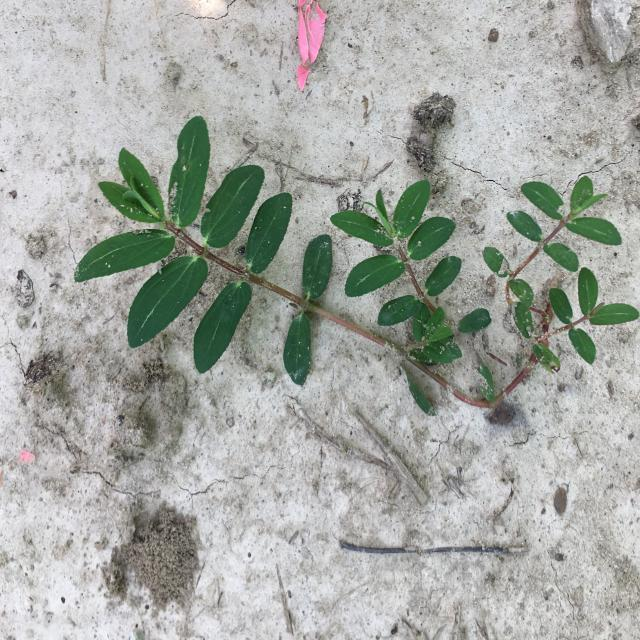SpottedSpurge: (72, 114, 640, 418)
